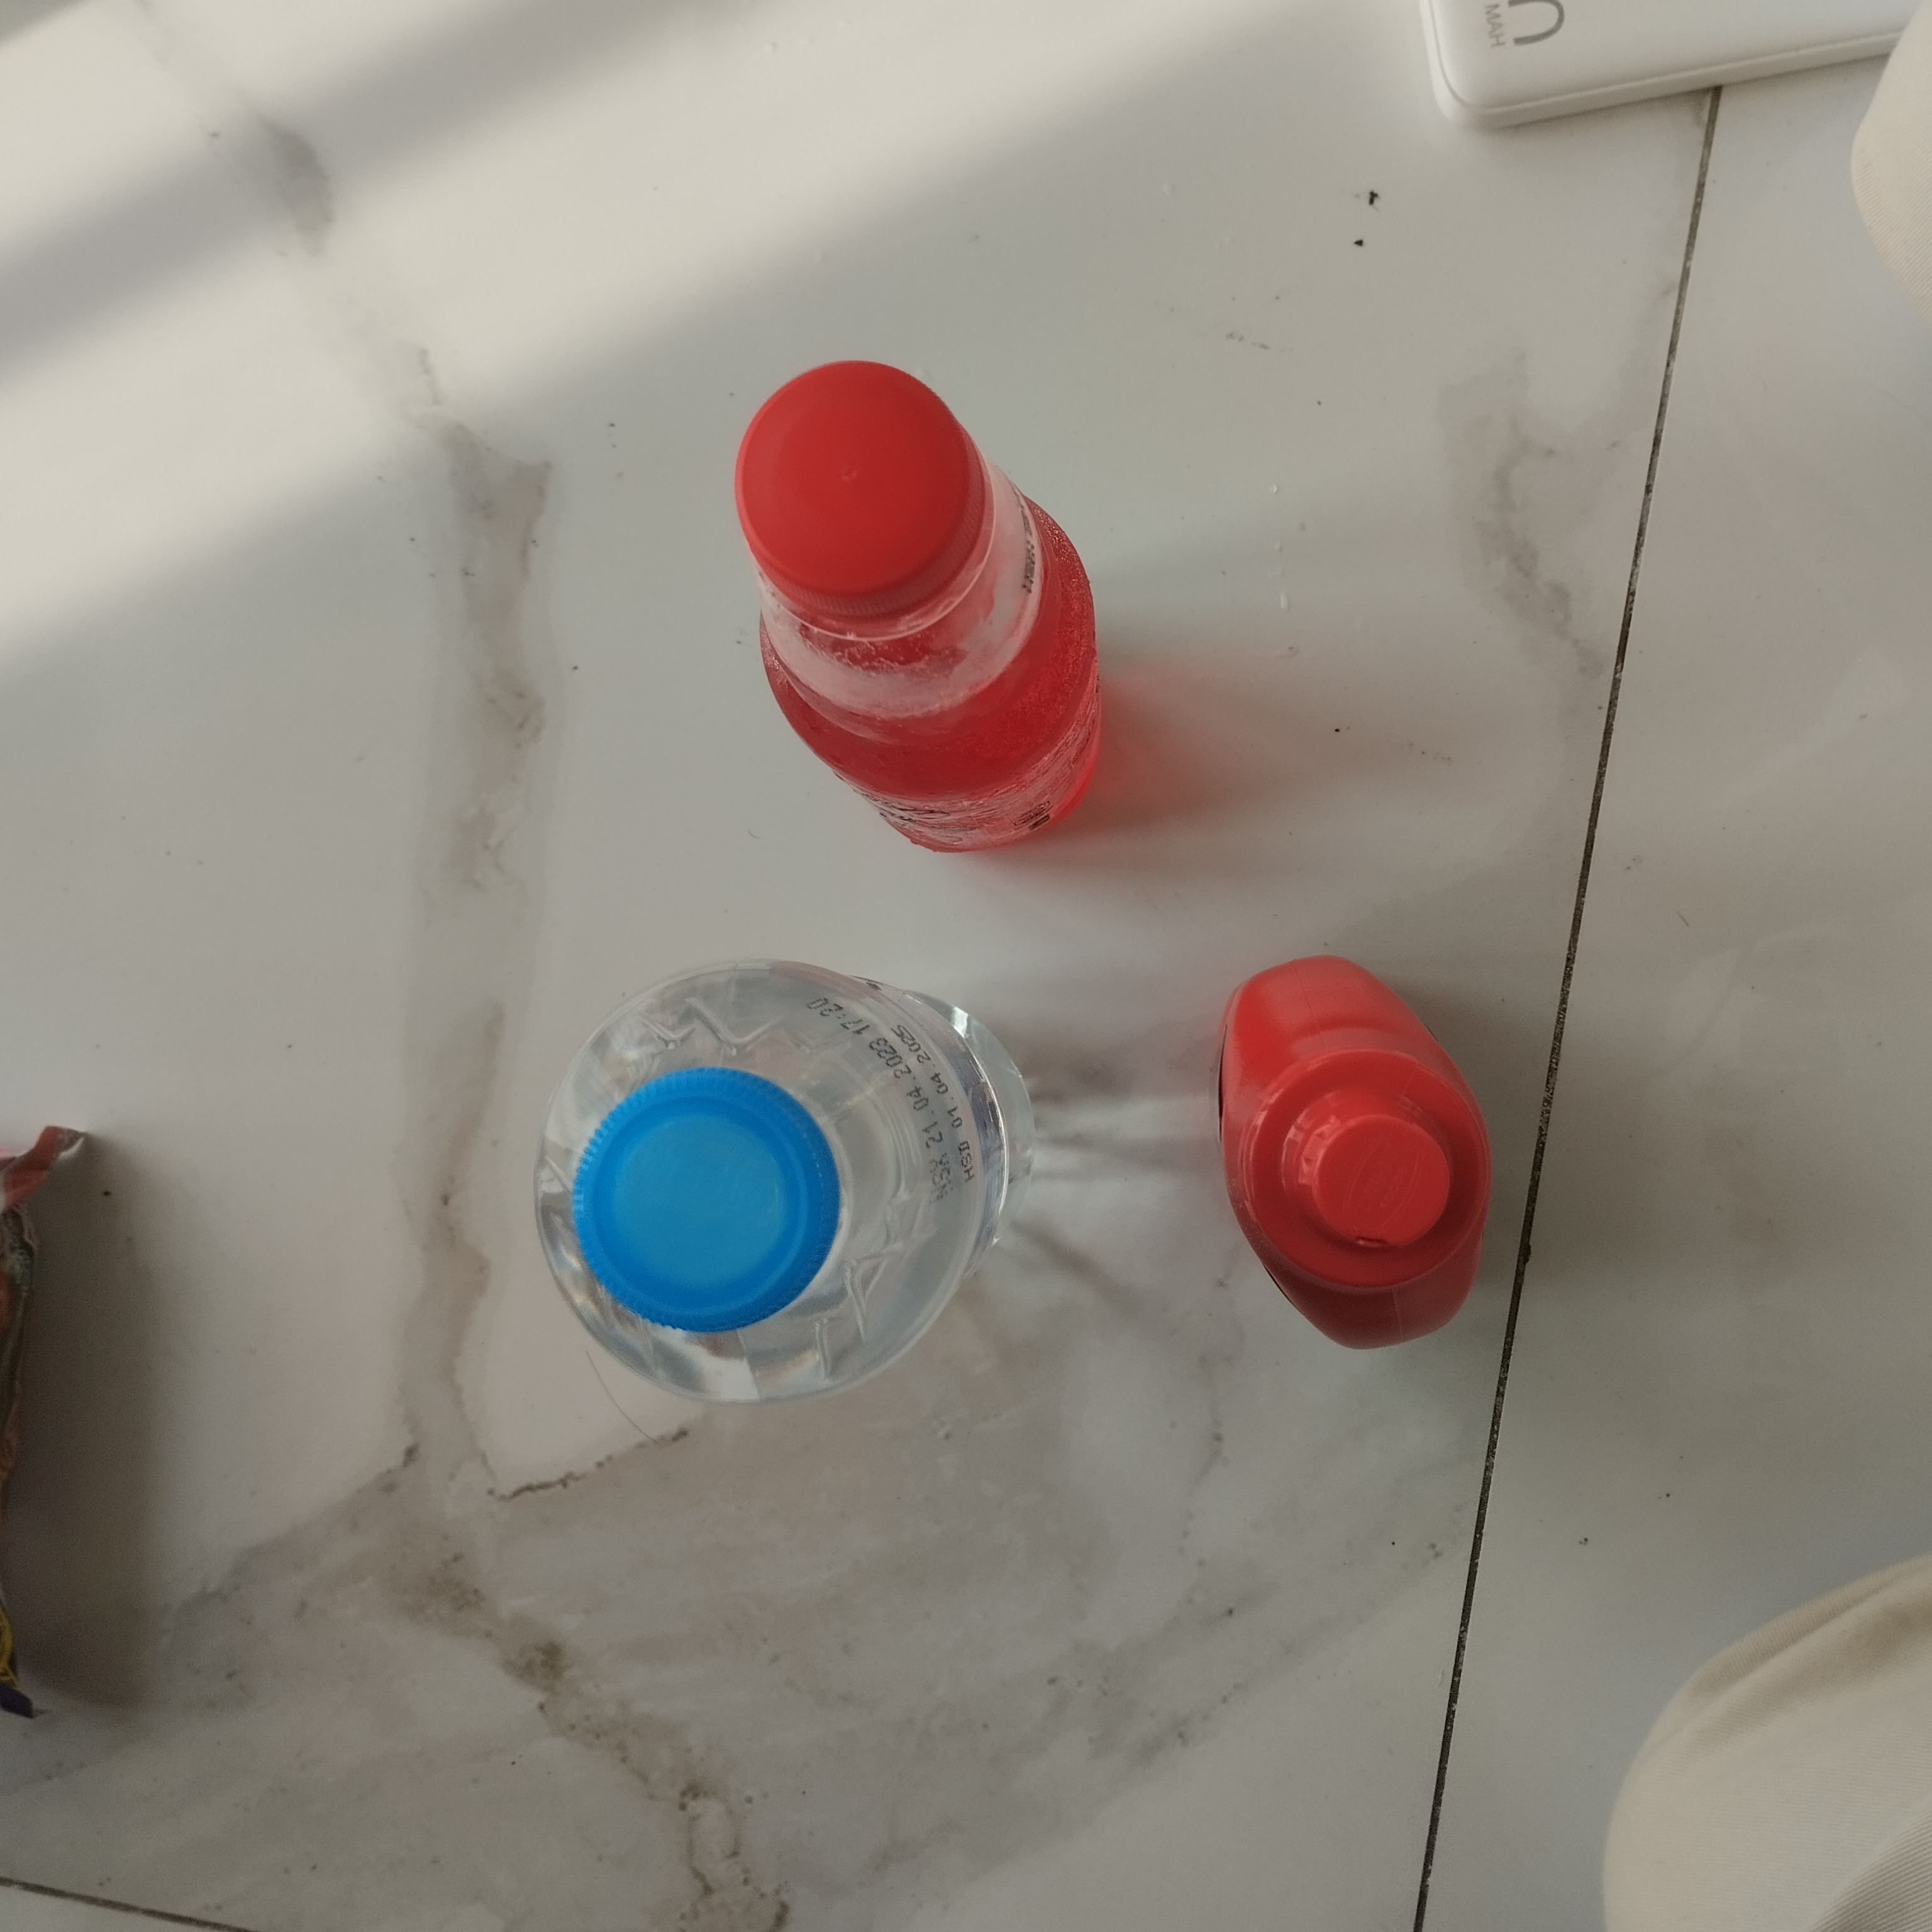Chinsu: (1212, 945, 1502, 1348)
Lavie: (531, 954, 1049, 1412)
Sting: (729, 357, 1125, 862)
